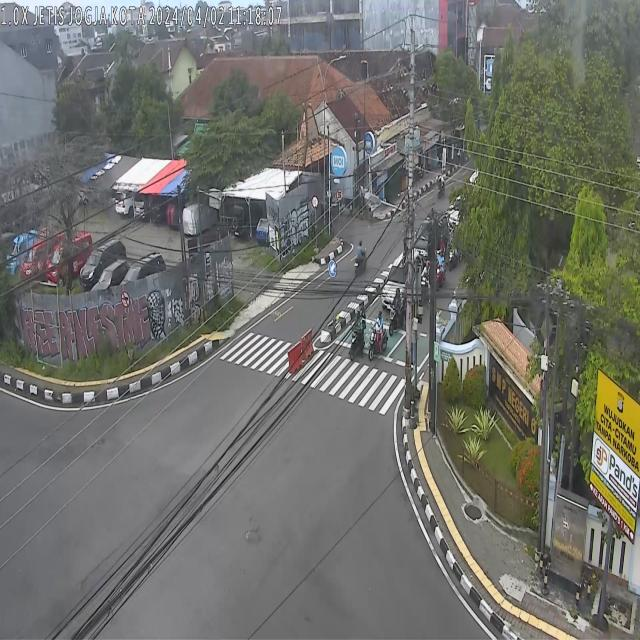car: (381, 248, 423, 312), (414, 212, 449, 270), (449, 195, 465, 230)
motorcycle: (368, 310, 388, 362), (349, 305, 365, 362), (388, 288, 402, 335), (353, 239, 369, 278), (421, 260, 431, 307), (436, 250, 446, 292), (448, 237, 459, 270), (436, 172, 446, 200)
